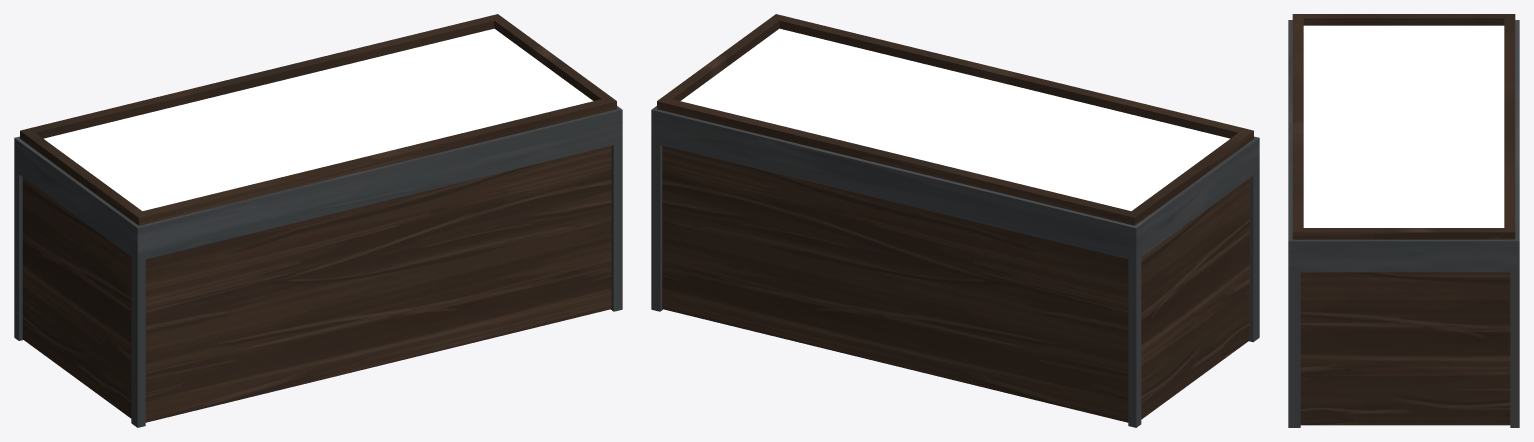
The model's file is truhe_bottom.glb.
3 views of the same model, side by side, from view 1: azimuth 30°, elevation 25°; view 2: azimuth 150°, elevation 25°; view 3: azimuth 270°, elevation 25° (orthographic). The views are drawn at different scales.
Parts seen in each view (by area): view 1: Cube.224; view 2: Cube.224; view 3: Cube.224.
Part boxes in pixels (x1,y1,x2,y2): Cube.224: (14,14,622,427); Cube.224: (651,14,1259,427); Cube.224: (1288,14,1519,427).
Bounding box in the file's own units: 1.29 × 0.5257 × 0.5668.
Materials: 3 (2 with a texture image).
